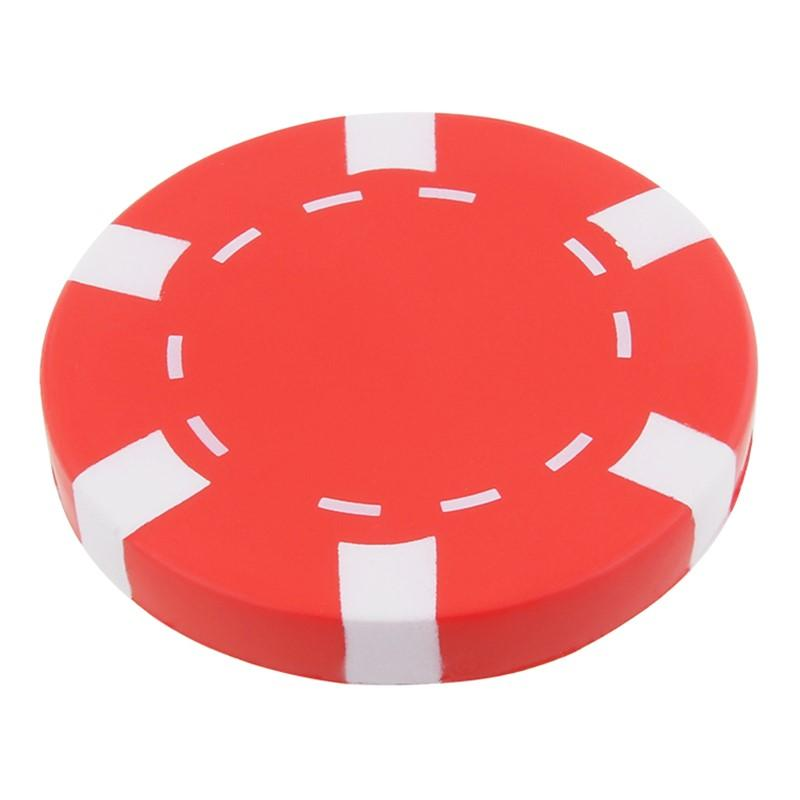chip-red: (41, 112, 756, 684)
